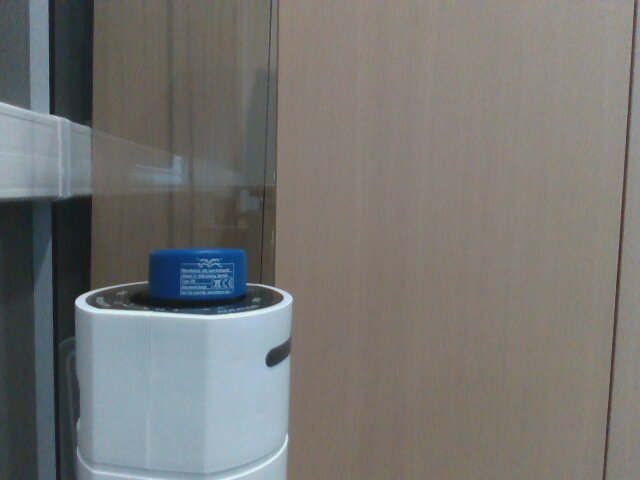alfa: (143, 239, 257, 303)
